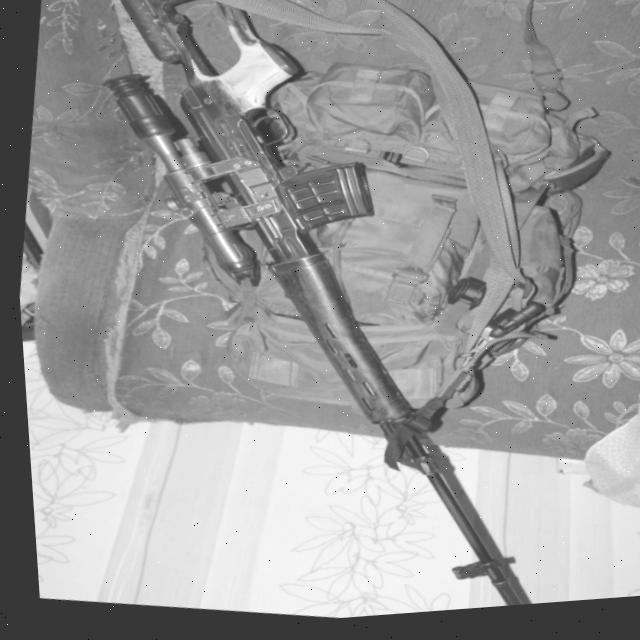firearm: (25, 0, 617, 639)
